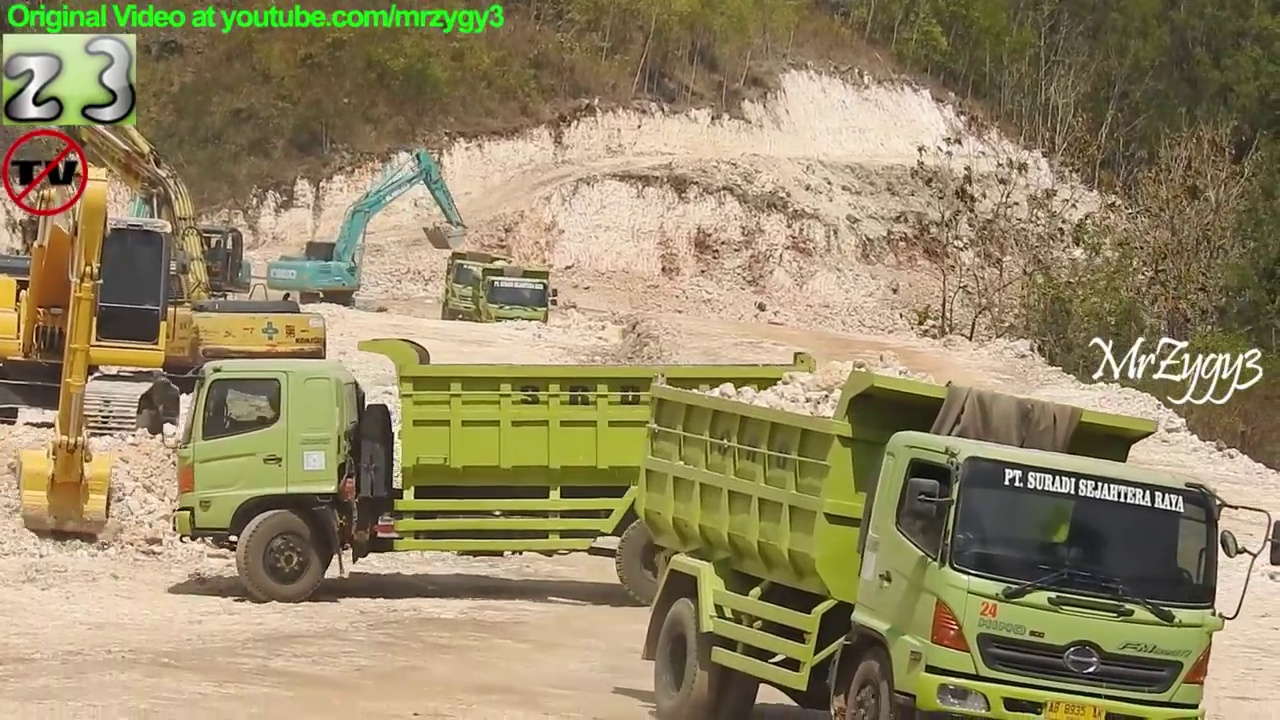excavator: (9, 58, 331, 430), (1, 147, 182, 544), (261, 144, 471, 309), (100, 127, 258, 336)
truck: (634, 359, 1280, 720), (150, 336, 834, 614), (468, 261, 561, 345), (441, 248, 516, 331)
